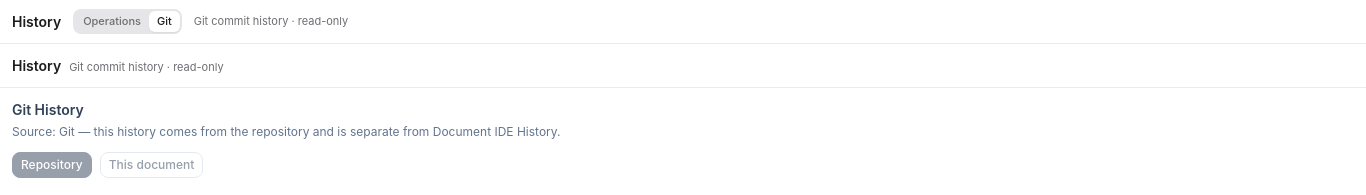
Scenario: HistoryScreen — HIST-04 real operation listing › an empty available history renders the real empty state, not unavailable
The width and height of the screenshot is (1366, 195).
Click the radio button labelled "Operations". click: coordinates (112, 22)
box: [75,11,149,32]
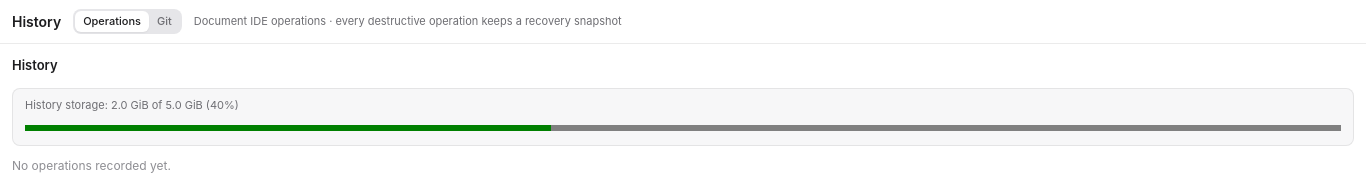
Check: the text "No operations recorded yet." is shown, box [12,158,171,173]
Check: the text "History storage: 2.0 GiB of 5.0 GiB (40%)" is shown, box [25,98,239,112]
